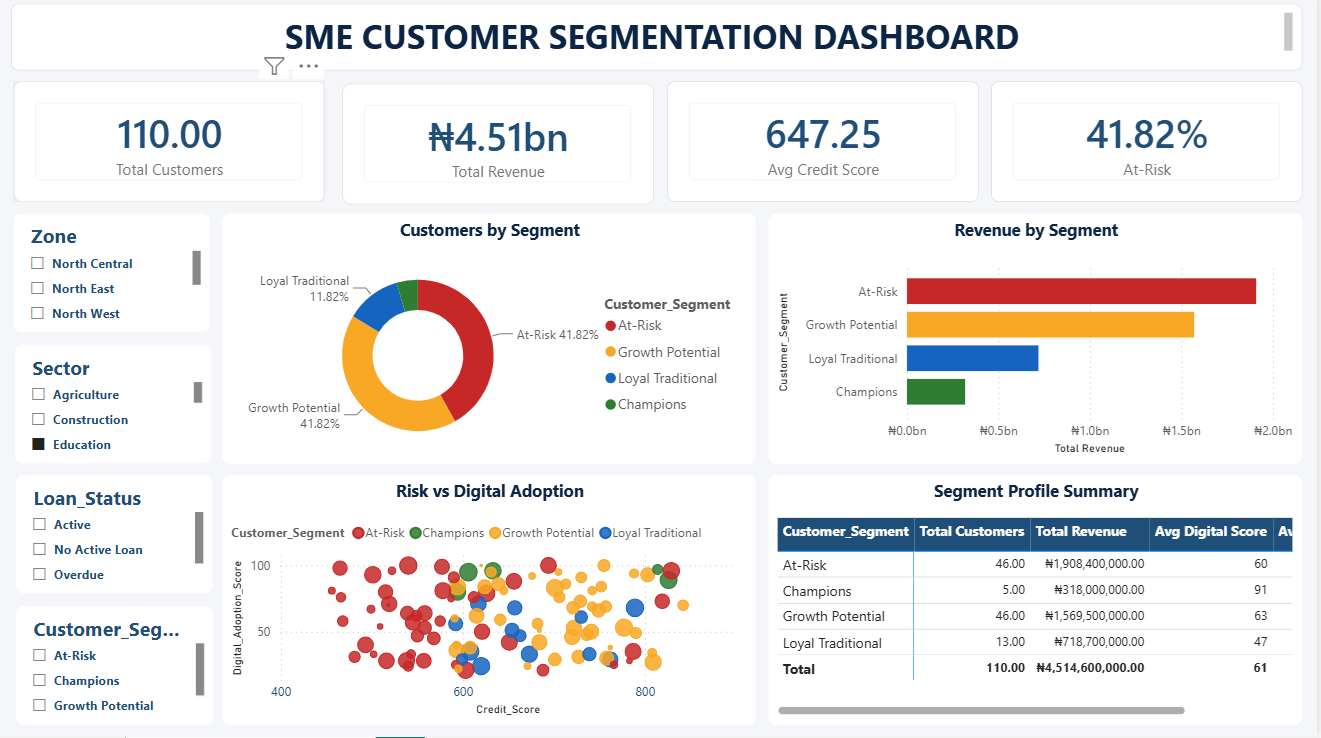

What the dashboard file says about the page in this screenshot:
{"tool":"powerbi","page":{"name":"SME Customer Segmentation","canvas":[1280,720],"ordinal":0},"visuals":[{"type":"textbox","box":[19.3,12.1,1246.3,65.1],"z":0},{"type":"cardVisual","fields":{"Data":["Cleaned_Data.Total Customers"]},"box":[21.7,86.9,300.4,117],"z":1000},{"type":"cardVisual","fields":{"Data":["Cleaned_Data.Total Revenue (NGN)"]},"box":[339,89.3,300.4,117],"z":2000},{"type":"cardVisual","fields":{"Data":["Cleaned_Data.Avg Credit Score"]},"box":[652.7,86.9,300.4,117],"z":3000},{"type":"cardVisual","fields":{"Data":["Cleaned_Data.At Risk %"]},"box":[965.2,86.9,300.4,117],"z":4000},{"type":"slicer","fields":{"Values":["Cleaned_Data.Zone"]},"box":[21.7,214.7,189.4,114.6],"z":5000},{"type":"slicer","fields":{"Values":["Cleaned_Data.Sector"]},"box":[22.9,341.4,189.4,114.6],"z":6000},{"type":"slicer","fields":{"Values":["Cleaned_Data.Loan_Status"]},"box":[24.1,466.9,189.4,114.6],"z":7000},{"type":"slicer","fields":{"Values":["Cleaned_Data.Customer_Segment"]},"box":[24.1,593.6,190,115],"z":8000},{"type":"donutChart","title":"Customers by Segment","fields":{"Category":["Cleaned_Data.Customer_Segment"],"Y":["Cleaned_Data.Total Customers"]},"box":[223.2,214.7,515,241.3],"z":9000},{"type":"clusteredBarChart","title":"Revenue by Segment","fields":{"Category":["Cleaned_Data.Customer_Segment"],"Y":["Cleaned_Data.Total Revenue "]},"box":[750.4,214.7,515,241.3],"z":10000},{"type":"scatterChart","title":"Risk vs Digital Adoption","fields":{"X":["Sum(Cleaned_Data.Credit_Score)"],"Y":["Sum(Cleaned_Data.Digital_Adoption_Score)"],"Series":["Cleaned_Data.Customer_Segment"],"Size":["Sum(Cleaned_Data.Annual_Revenue_NGN)"]},"box":[223.2,466.9,515,241.3],"z":11000},{"type":"pivotTable","title":"Segment Profile Summary","fields":{"Rows":["Cleaned_Data.Customer_Segment"],"Values":["Cleaned_Data.Total Customers","Cleaned_Data.Total Revenue ","Cleaned_Data.Avg Digital Score","Cleaned_Data.Avg Credit Score"]},"box":[750.4,466.9,515,241.3],"z":12000}]}

Visuals, with their boxes in screenshot pixels (x1, y1, x2, y2), scaled from the page's 1280x720 canvas onto the 1321x738 screenshot:
textbox: [x1=20, y1=12, x2=1306, y2=79]
cardVisual - Cleaned_Data.Total Customers: [x1=22, y1=89, x2=332, y2=209]
cardVisual - Cleaned_Data.Total Revenue (NGN): [x1=350, y1=92, x2=660, y2=211]
cardVisual - Cleaned_Data.Avg Credit Score: [x1=674, y1=89, x2=984, y2=209]
cardVisual - Cleaned_Data.At Risk %: [x1=996, y1=89, x2=1306, y2=209]
slicer - Cleaned_Data.Zone: [x1=22, y1=220, x2=218, y2=338]
slicer - Cleaned_Data.Sector: [x1=24, y1=350, x2=219, y2=467]
slicer - Cleaned_Data.Loan_Status: [x1=25, y1=479, x2=220, y2=596]
slicer - Cleaned_Data.Customer_Segment: [x1=25, y1=608, x2=221, y2=726]
"Customers by Segment" donutChart: [x1=230, y1=220, x2=762, y2=467]
"Revenue by Segment" clusteredBarChart: [x1=774, y1=220, x2=1306, y2=467]
"Risk vs Digital Adoption" scatterChart: [x1=230, y1=479, x2=762, y2=726]
"Segment Profile Summary" pivotTable: [x1=774, y1=479, x2=1306, y2=726]
